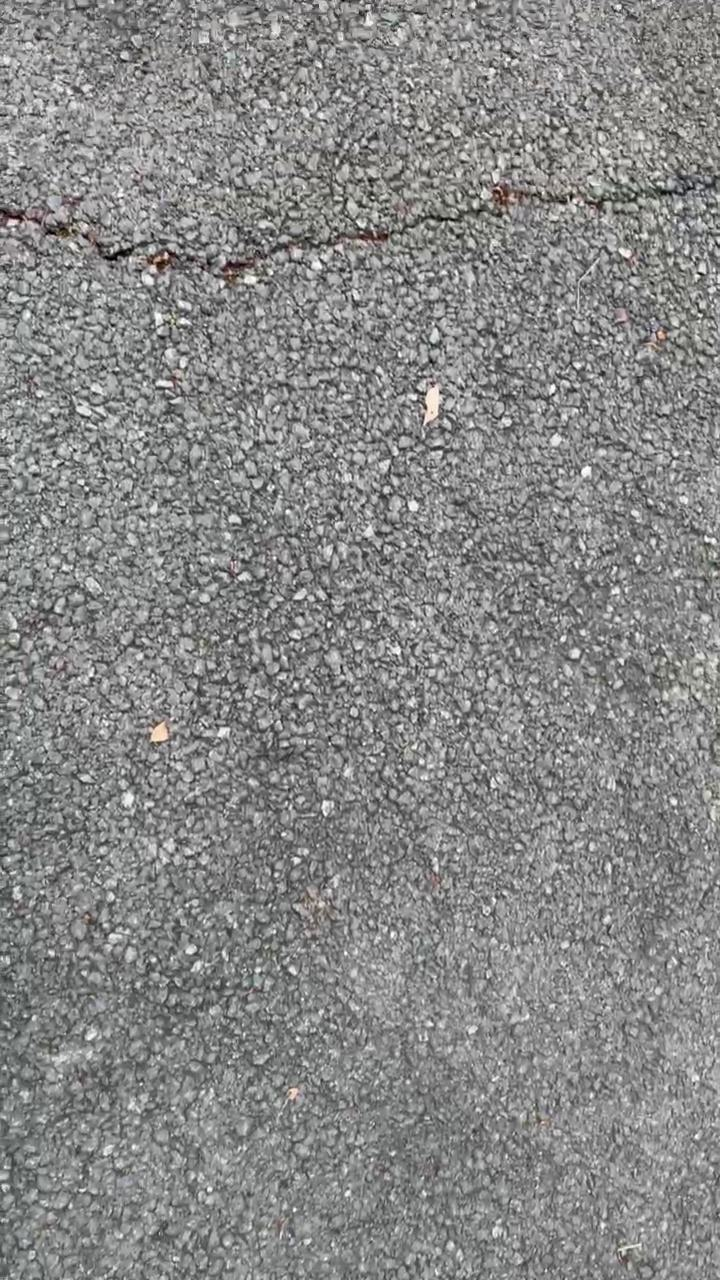Crack: (1, 174, 720, 281)
